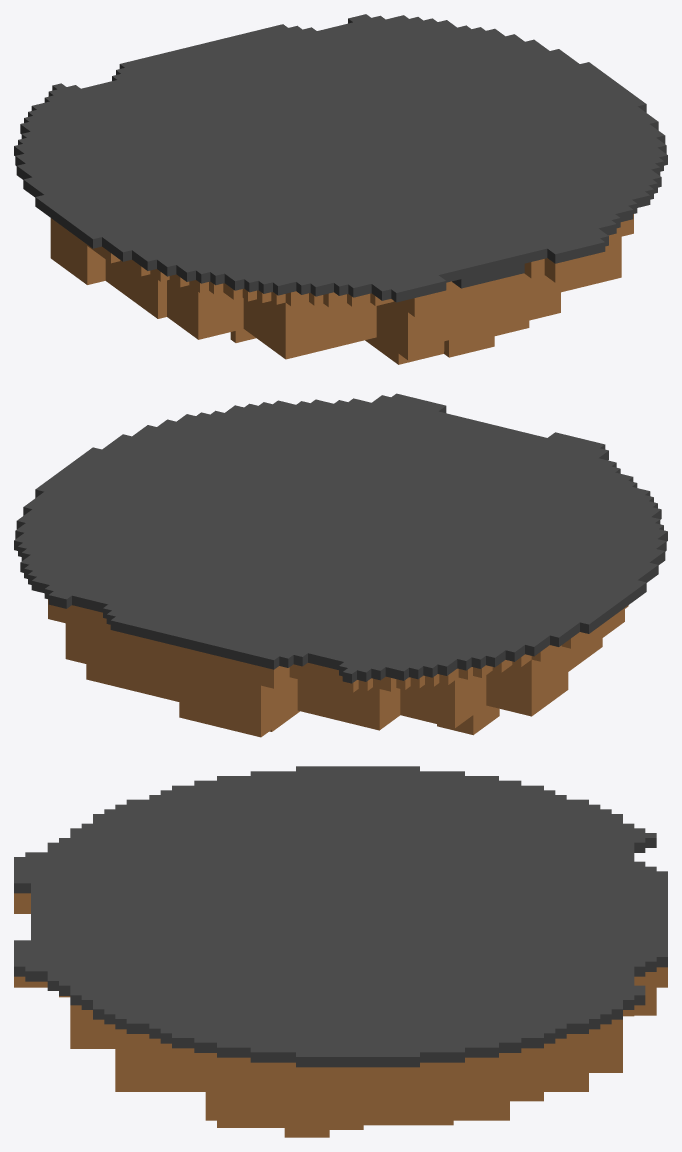
Rendered from ground.obj.
3 renders of one model, top to bottom at view 1: azimuth 30°, elevation 25°; view 2: azimuth 150°, elevation 25°; view 3: azimuth 270°, elevation 25°, orthographic. The views are drawn at different scales.
Bounding box in the file's own units: 12.2 × 2.6 × 11.6.
